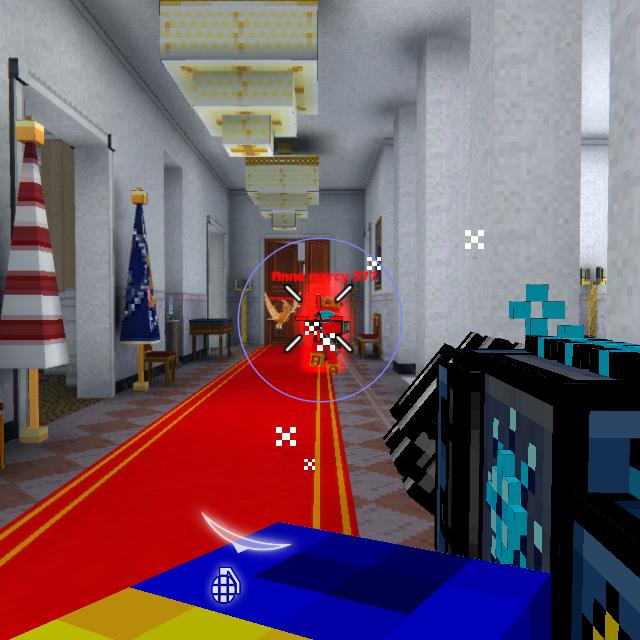Enemy: (305, 301, 351, 376)
